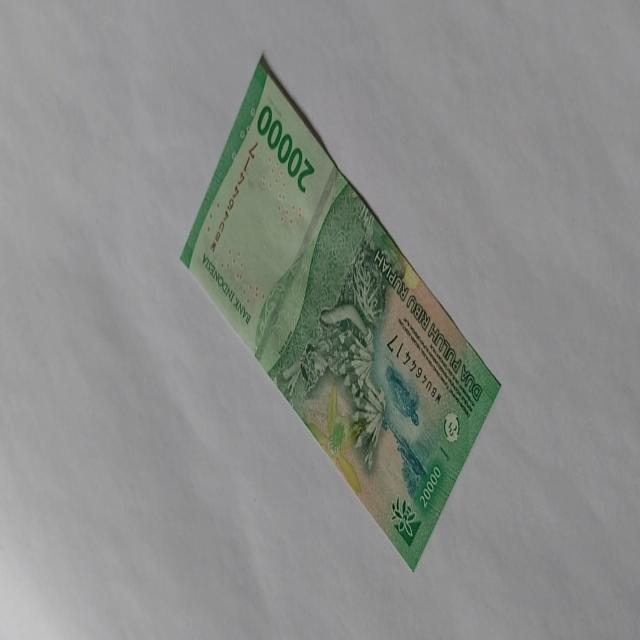dua puluh ribu rupiah: (180, 50, 502, 572), (255, 102, 315, 195)
